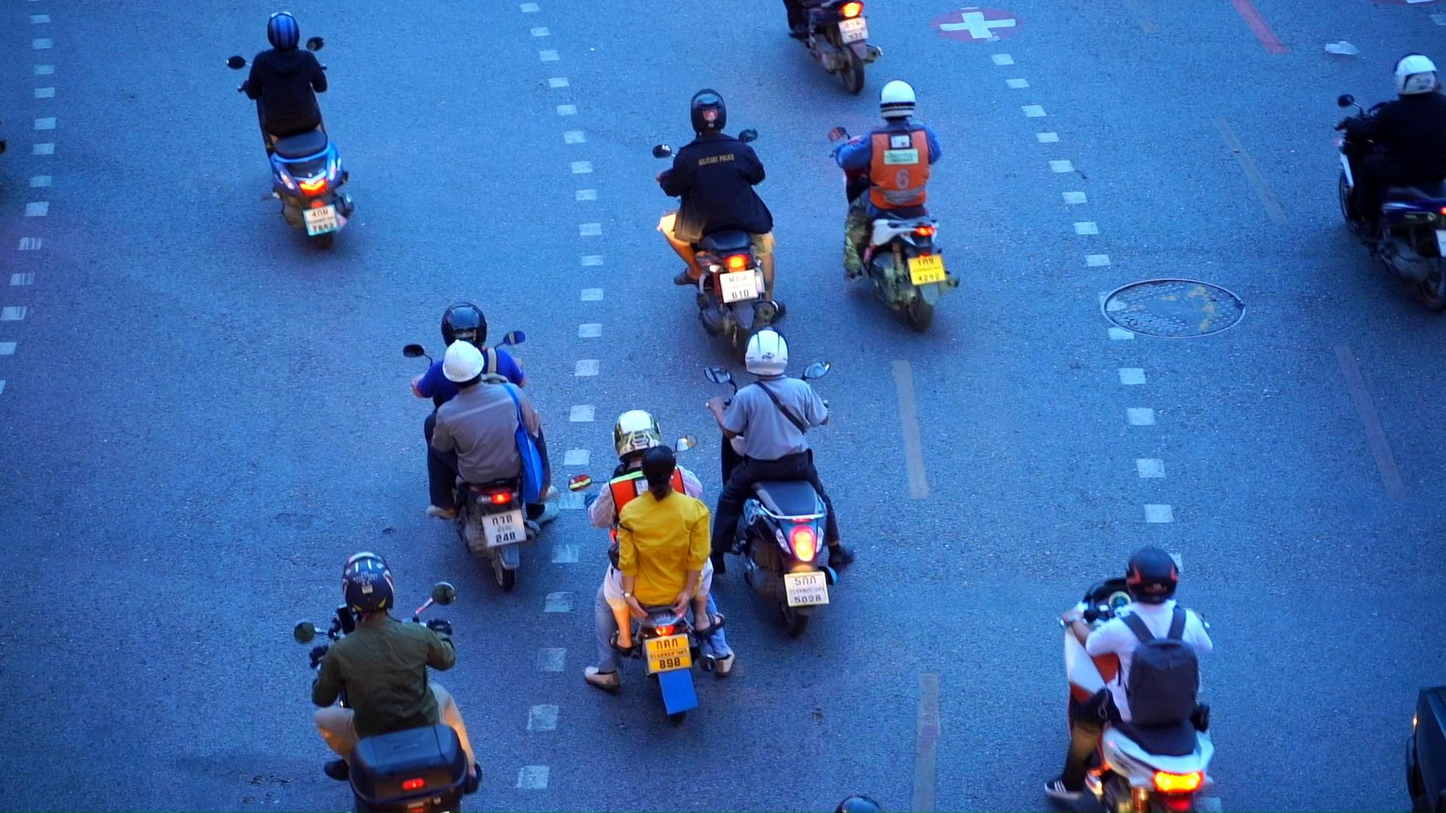driver: (568, 410, 737, 724), (293, 551, 482, 813), (702, 325, 857, 638), (1044, 545, 1217, 813), (402, 301, 561, 591), (653, 89, 787, 368), (827, 78, 960, 333), (225, 10, 354, 249), (1332, 51, 1446, 314), (782, 0, 884, 95)
helmet: (342, 551, 395, 623), (1126, 545, 1179, 604), (614, 410, 663, 465), (441, 302, 488, 352), (744, 325, 789, 377), (442, 339, 485, 390), (1393, 53, 1438, 98), (691, 89, 726, 138), (880, 79, 916, 121), (267, 11, 300, 51)
no-helmet: (642, 445, 676, 502)
